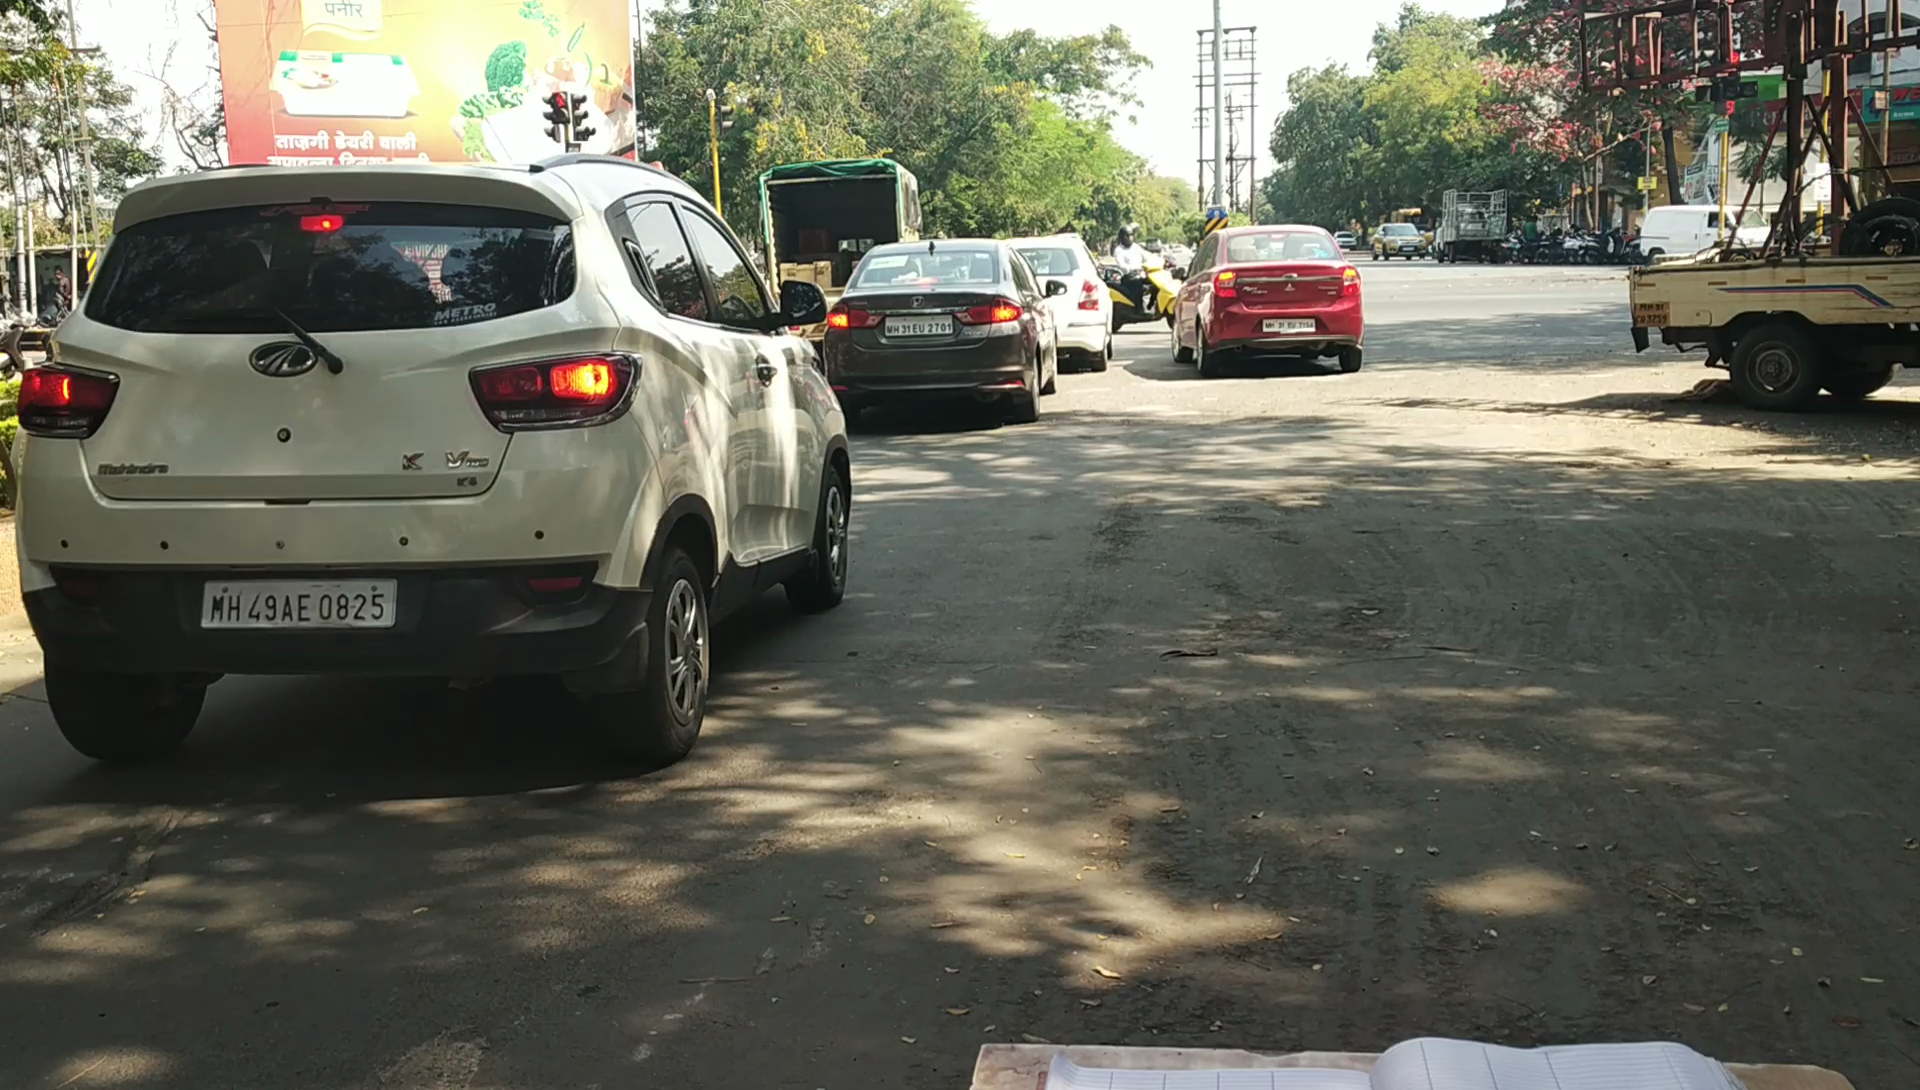car: (17, 70, 882, 837)
numplate: (198, 581, 403, 647)
